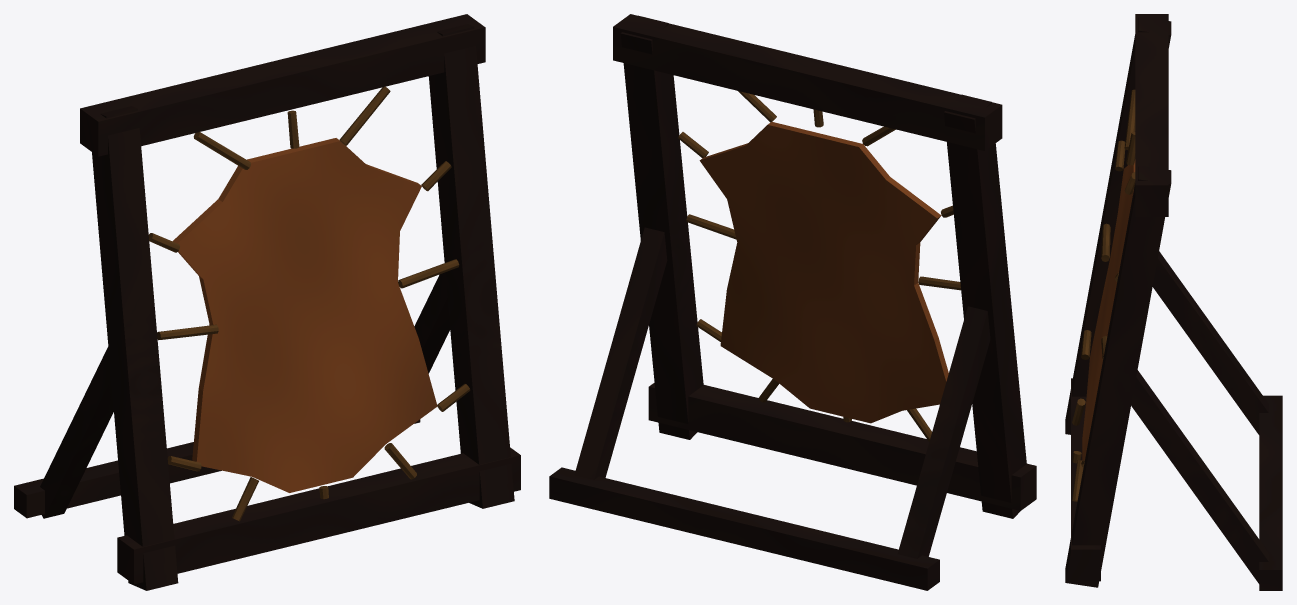
File: tanning_frame.glb
3 renders of one model, left to right at view 1: azimuth 30°, elevation 25°; view 2: azimuth 150°, elevation 25°; view 3: azimuth 270°, elevation 25°, orthographic. The views are drawn at different scales.
Parts seen in each view (by area): view 1: Frame, Hide, Lacing; view 2: Frame, Hide, Lacing; view 3: Frame, Hide, Lacing.
Part boxes in pixels (left/top/right/bottom): Frame: left=14, top=14, right=520, bottom=590; Hide: left=172, top=138, right=437, bottom=492; Lacing: left=148, top=86, right=470, bottom=521; Frame: left=549, top=14, right=1036, bottom=590; Hide: left=699, top=122, right=948, bottom=423; Lacing: left=678, top=91, right=960, bottom=441; Frame: left=1065, top=14, right=1282, bottom=590; Hide: left=1082, top=159, right=1135, bottom=460; Lacing: left=1072, top=89, right=1135, bottom=501.
Bounding box in the file's own units: 1.24 × 1.37 × 0.6543.
3 materials, 3 textured.
